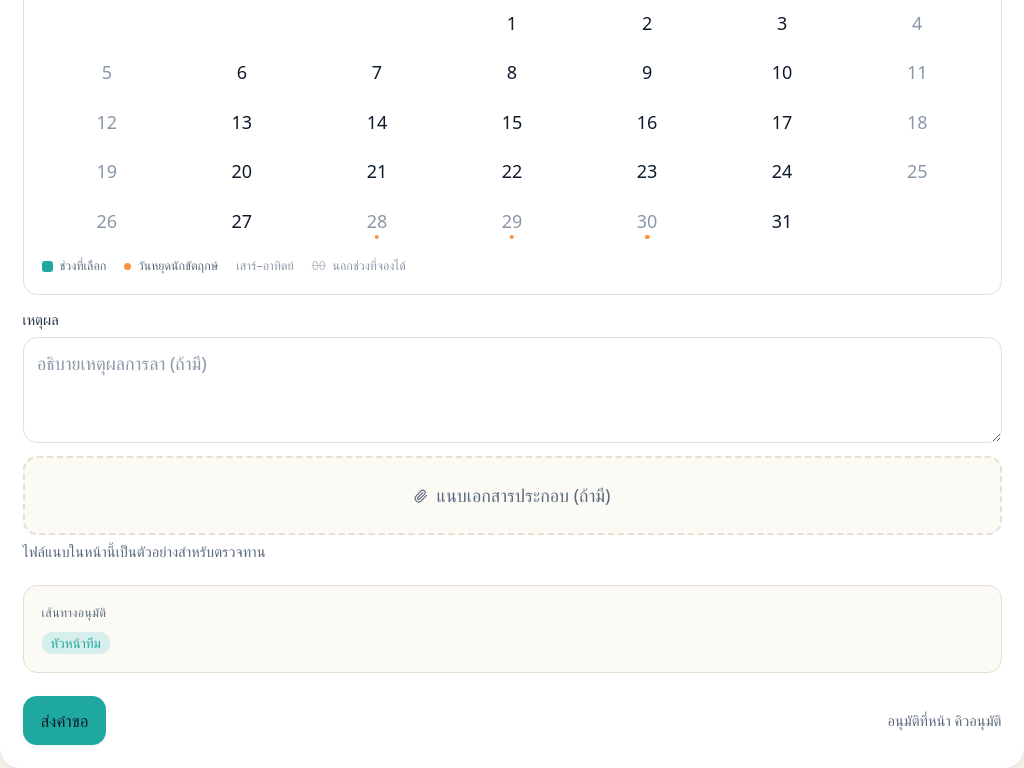
Test: AC-13 — /timeoff functional › renders the range calendar and requires a selected date before submit
(page scrolled)
Click the button "ส่งคำขอ".
click(64, 720)  # box [22, 696, 106, 745]
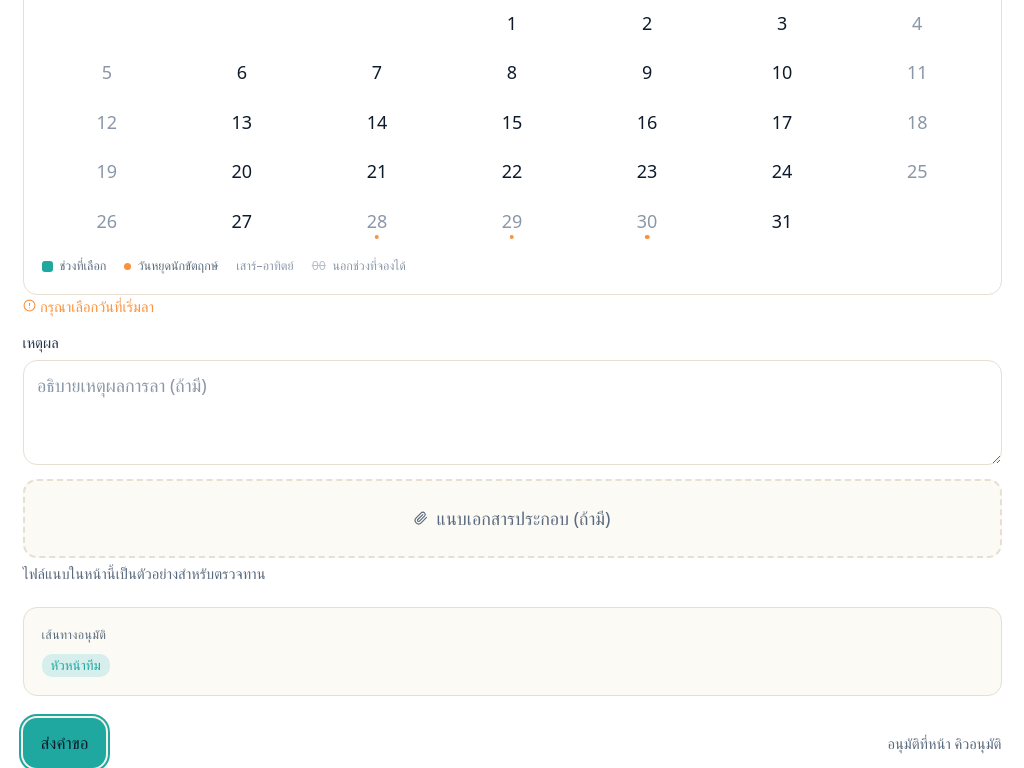
Check: the text "กรุณาเลือกวันที่เริ่มลา" is shown, box [22, 296, 154, 316]
